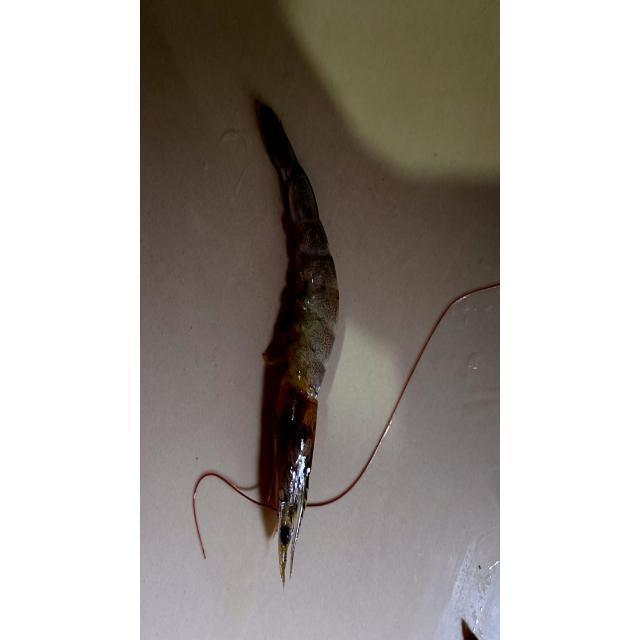shrimp: (260, 108, 339, 585)
